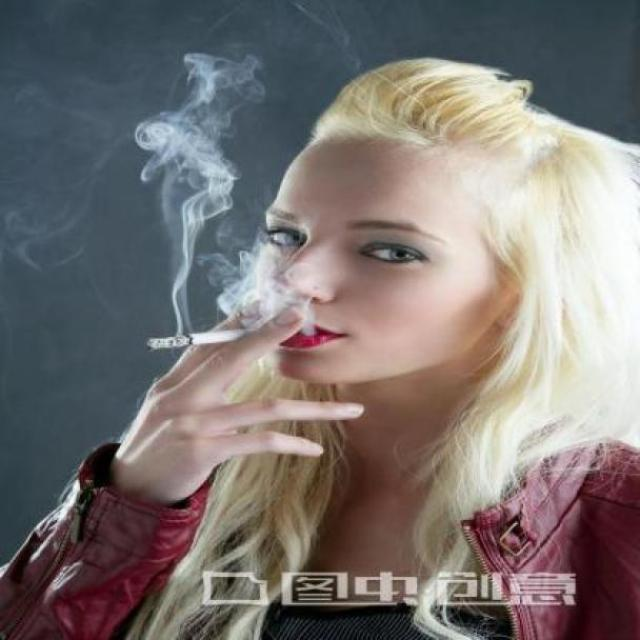rokok: (138, 328, 286, 350)
